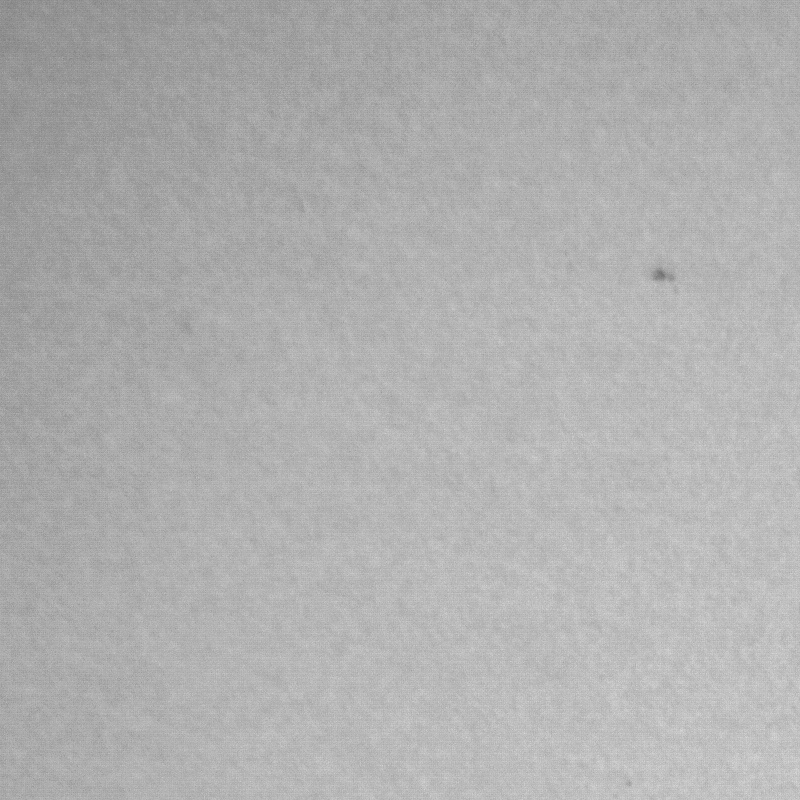defect: (651, 261, 683, 291), (178, 314, 199, 343)
